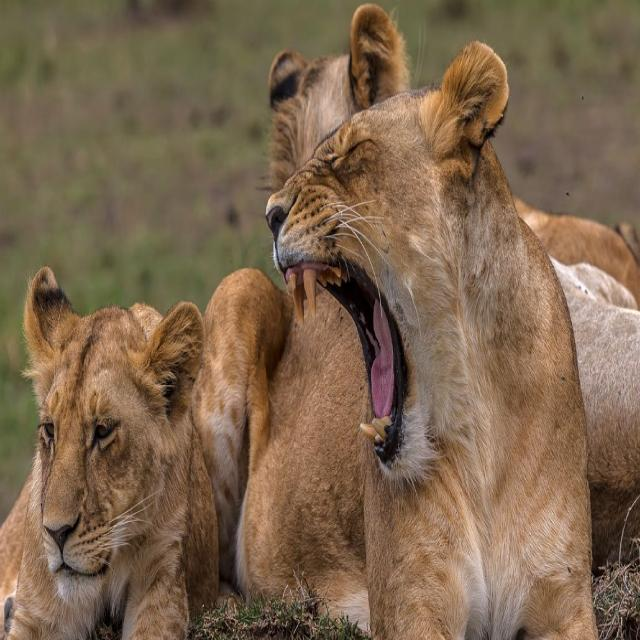Lion: (198, 7, 640, 640), (0, 249, 636, 640)
Panda: (1, 264, 220, 638)
